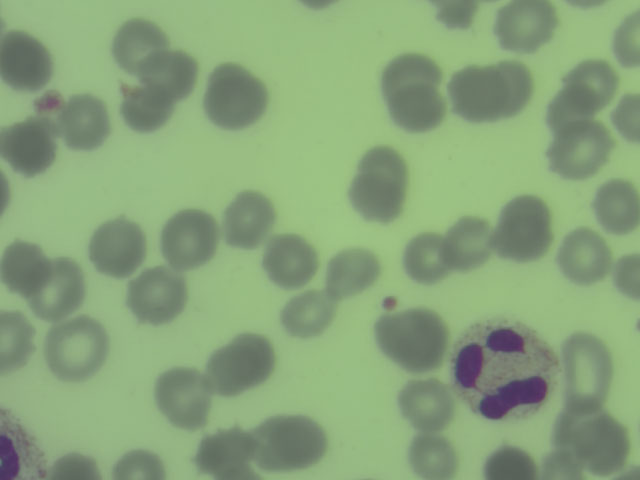Platelets: (30, 91, 65, 113), (380, 288, 402, 315)
RBC: (560, 326, 613, 409), (203, 64, 261, 125), (220, 188, 274, 248), (258, 415, 318, 466), (590, 177, 640, 234), (1, 30, 49, 89), (404, 428, 457, 480), (265, 234, 318, 285), (328, 245, 381, 296), (279, 290, 332, 341), (161, 212, 214, 263), (399, 231, 452, 282), (442, 216, 495, 267), (500, 203, 553, 254), (389, 315, 442, 366), (398, 378, 451, 429), (581, 419, 634, 470), (553, 400, 606, 451), (556, 231, 609, 282), (553, 127, 606, 178), (543, 89, 596, 140), (564, 54, 617, 105), (484, 60, 537, 111), (447, 68, 500, 119), (388, 84, 441, 135), (384, 50, 437, 101), (197, 425, 250, 476), (214, 338, 267, 389), (161, 369, 214, 420), (126, 270, 179, 321), (91, 222, 144, 273), (49, 324, 102, 375), (31, 263, 84, 314), (119, 85, 172, 136), (144, 47, 197, 98), (110, 18, 163, 69), (1, 122, 54, 173), (60, 96, 113, 147), (498, 1, 551, 51), (1, 240, 52, 291), (356, 143, 410, 191), (480, 442, 539, 480), (352, 172, 401, 217), (1, 309, 36, 372), (45, 443, 102, 480), (610, 82, 640, 150), (607, 9, 640, 68), (109, 448, 167, 480), (536, 449, 584, 480), (435, 1, 481, 32)
WBC: (450, 315, 556, 423)
